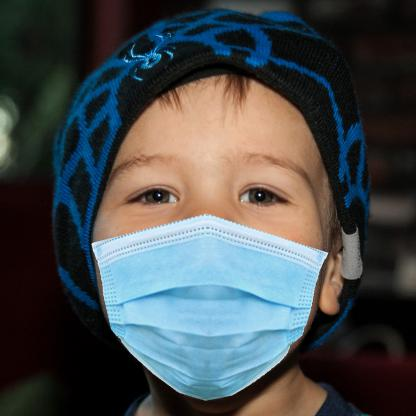Correctly_Masked: (89, 87, 335, 405)
